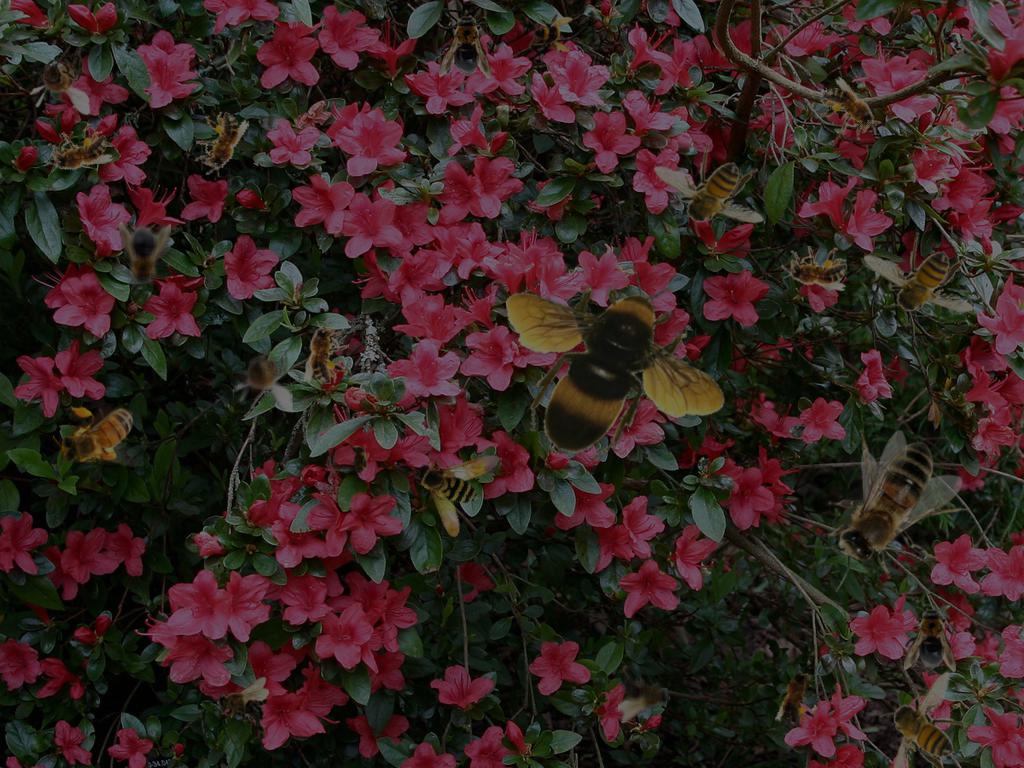Bee: (506, 270, 726, 461), (804, 430, 971, 592), (407, 429, 523, 543), (653, 143, 764, 237), (863, 232, 974, 326), (879, 671, 973, 768), (53, 403, 146, 471), (811, 74, 891, 151), (36, 117, 116, 186), (187, 106, 251, 183), (232, 341, 293, 411), (29, 45, 90, 115), (773, 659, 829, 732), (904, 604, 956, 672), (439, 11, 491, 79), (119, 222, 171, 290), (216, 677, 269, 739), (618, 661, 671, 723), (304, 318, 349, 384), (781, 246, 847, 291), (529, 10, 573, 54), (348, 440, 370, 480)
